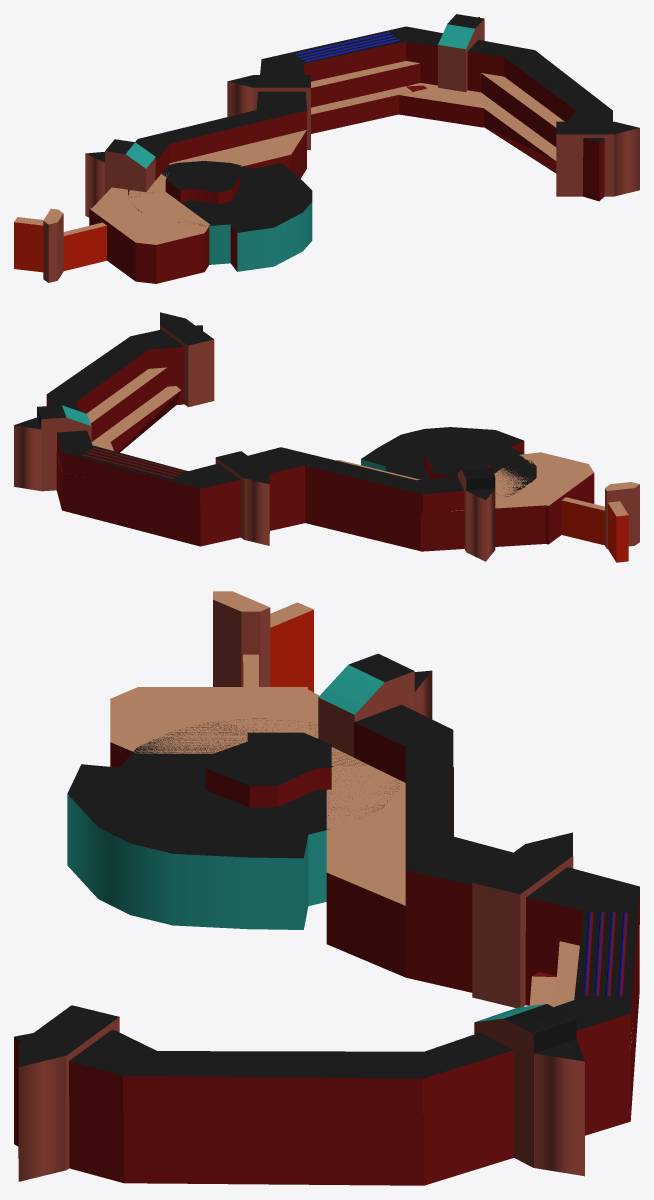
The model's file is Kapteynborg.fbx.
The picture shows the model from 3 angles, top to bottom: view 1: azimuth 30°, elevation 25°; view 2: azimuth 150°, elevation 25°; view 3: azimuth 270°, elevation 25°; orthographic projection. The views are drawn at different scales.
Visible parts, largest first — view 1: Box007; view 2: Box007; view 3: Box007.
Part boxes in pixels (<box>): Box007: <box>14,14,639,283</box>; Box007: <box>14,312,639,562</box>; Box007: <box>14,591,639,1185</box>.
Size of the model in its own units: 587 by 74.81 by 312.
